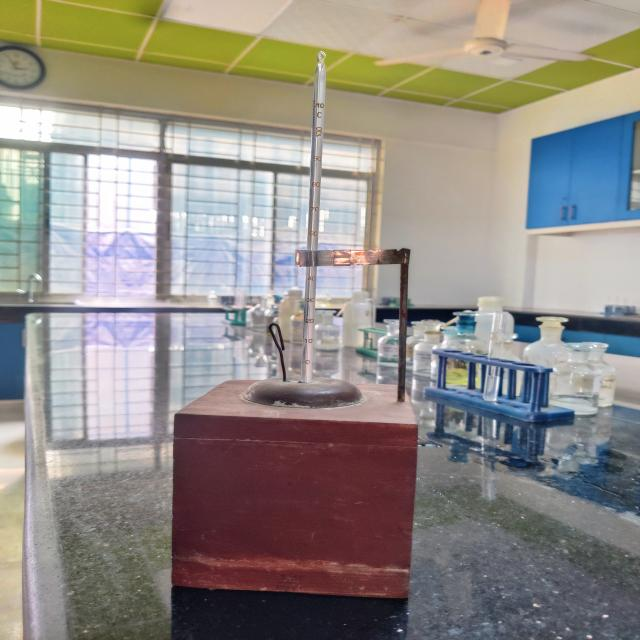Calorimeter: (120, 37, 463, 640)
